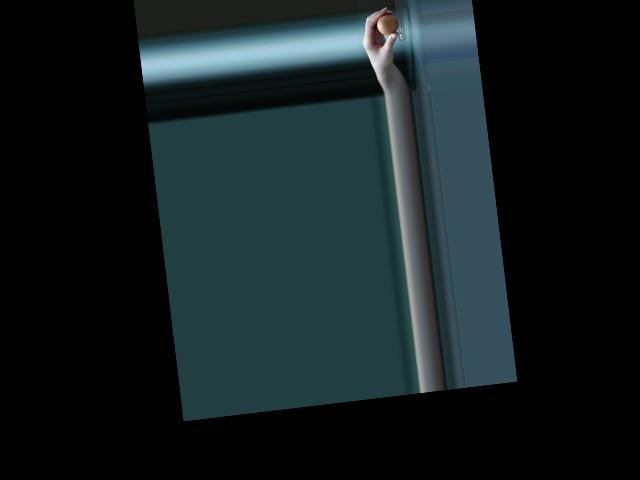egg: (375, 13, 400, 36)
